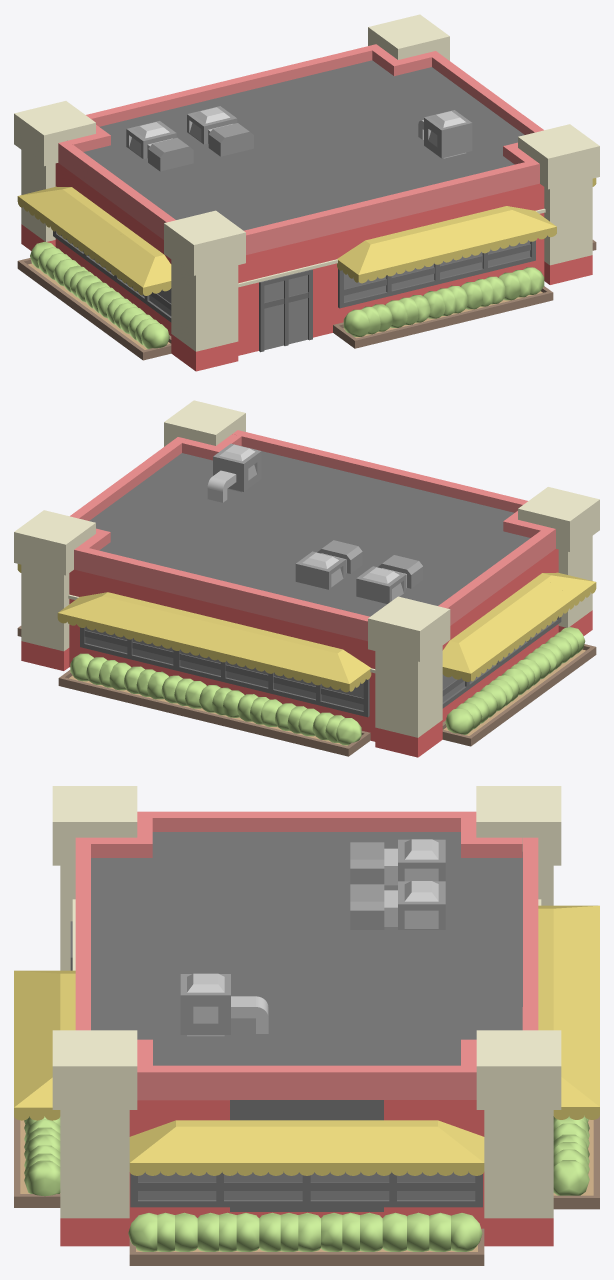
Rendered from building_red_diner.fbx.
3 views of the same model, one above another, from view 1: azimuth 30°, elevation 25°; view 2: azimuth 150°, elevation 25°; view 3: azimuth 270°, elevation 25° (orthographic). The views are drawn at different scales.
Parts seen in each view (by area): view 1: building_red_diner; view 2: building_red_diner; view 3: building_red_diner.
Boxes of the visible parts, x1,y1,x2,y2 form: building_red_diner: (14,14,599,371); building_red_diner: (14,400,599,757); building_red_diner: (14,786,599,1265).
Size of the model in its own units: 480 by 145 by 380.
